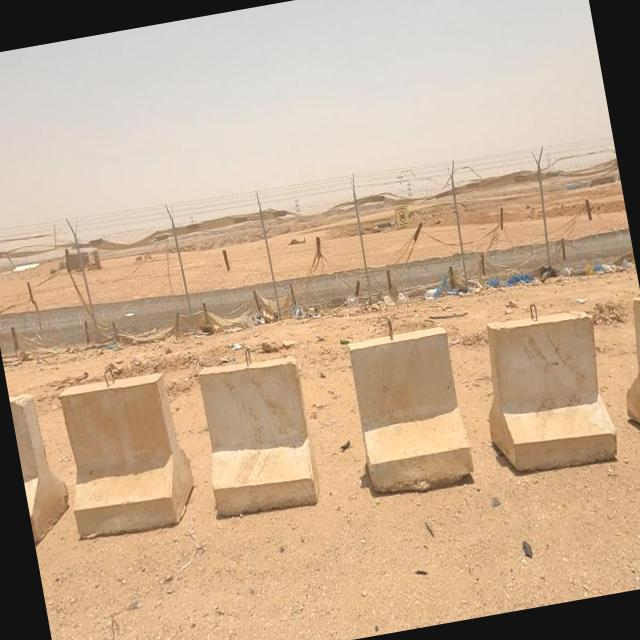debris: (395, 222, 489, 340), (564, 218, 640, 309), (461, 223, 526, 318), (271, 272, 341, 354), (354, 264, 435, 334), (232, 274, 300, 352), (536, 233, 604, 310), (511, 227, 573, 311), (486, 240, 548, 310), (203, 313, 260, 383), (321, 266, 382, 326), (452, 256, 492, 322), (94, 318, 136, 377), (306, 316, 334, 358), (327, 326, 360, 360)
